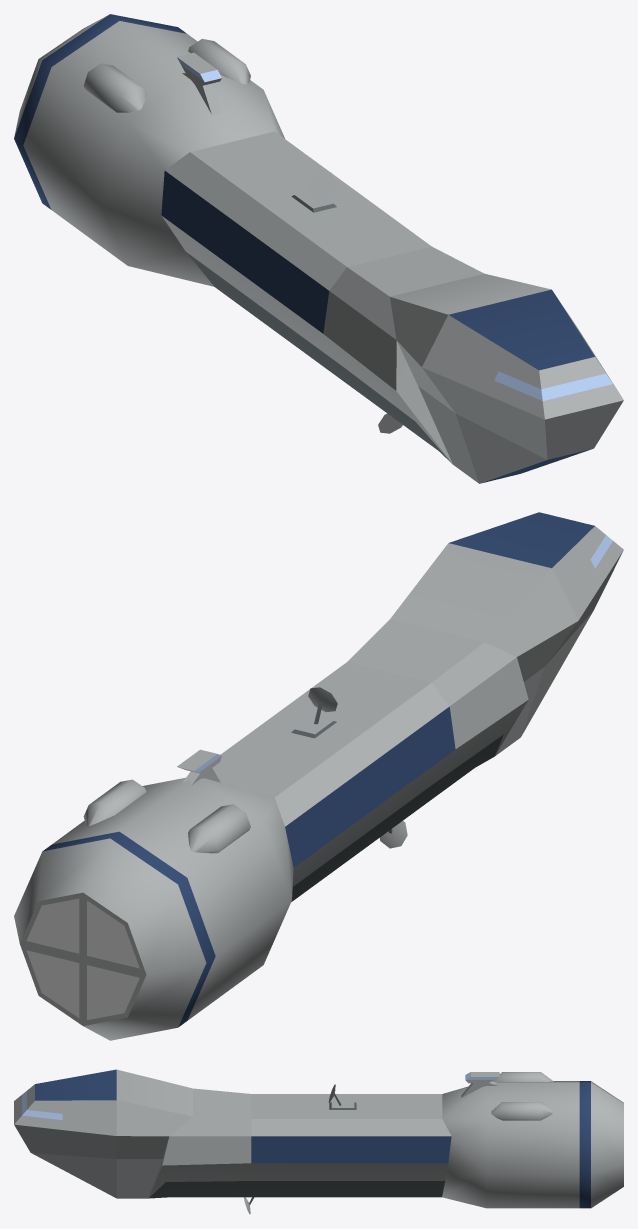
File: Lancer.fbx
3 renders of one model, top to bottom at view 1: azimuth 30°, elevation 25°; view 2: azimuth 150°, elevation 25°; view 3: azimuth 270°, elevation 25°, orthographic. The views are drawn at different scales.
Parts seen in each view (by area): view 1: Ship, Blisters, ConTower, RadarTop; view 2: Ship, Blisters, RadarTop, ConTower; view 3: Ship, Blisters, ConTower, RadarTop.
Boxes of the visible parts, x1,y1,x2,y2 form: Ship: (14,14,623,483); Blisters: (83,39,250,112); ConTower: (177,52,221,114); RadarTop: (291,170,337,212); Ship: (14,512,623,1040); Blisters: (83,779,250,853); RadarTop: (291,687,337,738); ConTower: (177,749,221,785); Ship: (14,1069,623,1208); Blisters: (491,1072,553,1120); ConTower: (461,1072,499,1097); RadarTop: (328,1084,356,1109).
Bounding box in the file's own units: 56.97 × 64.87 × 257.
